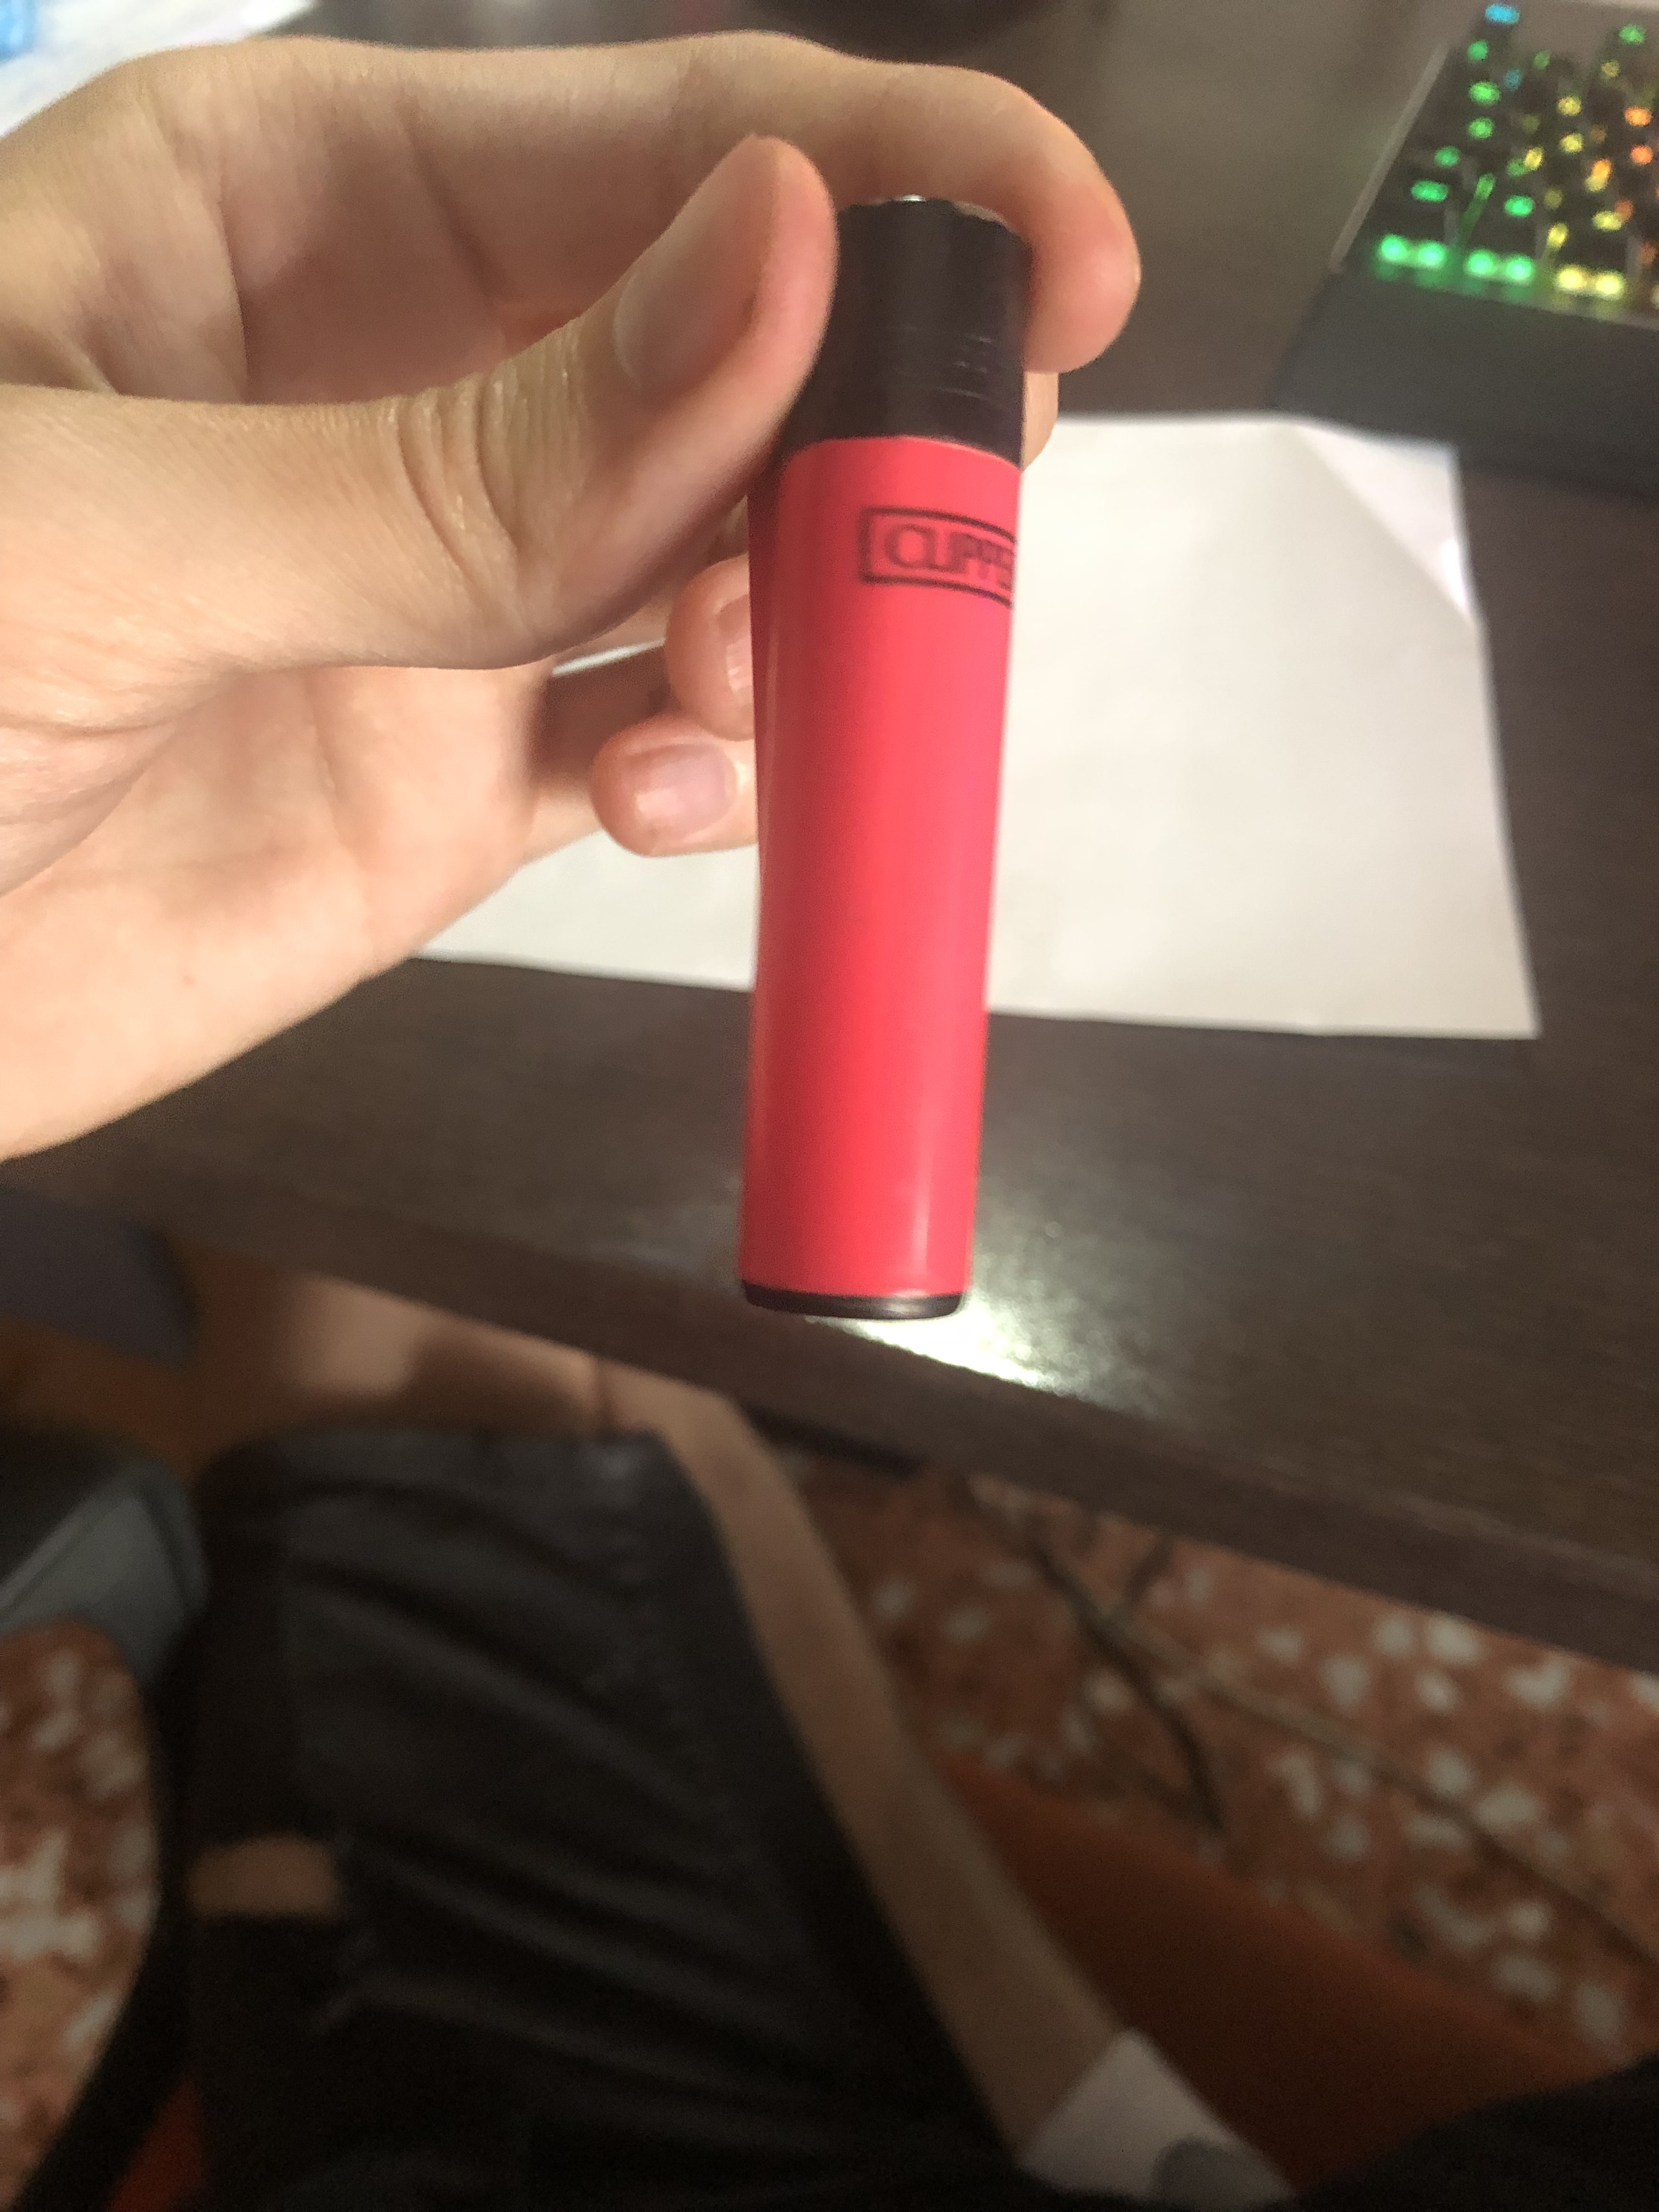Mechero: (708, 200, 1044, 1352)
